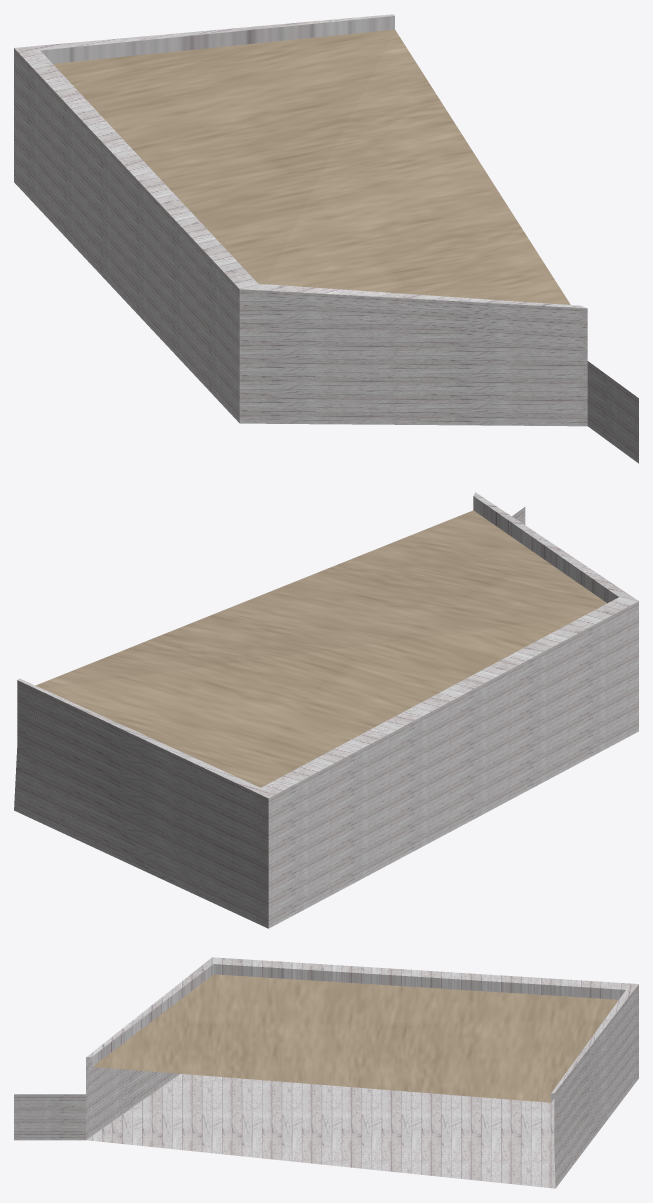
The model's file is SALA.glb.
3 views of the same model, one above another, from view 1: azimuth 30°, elevation 25°; view 2: azimuth 150°, elevation 25°; view 3: azimuth 270°, elevation 25° (orthographic). The views are drawn at different scales.
Parts seen in each view (by area): view 1: Cube.005; view 2: Cube.005; view 3: Cube.005.
Part boxes in pixels (<box>): Cube.005: <box>14,14,638,463</box>; Cube.005: <box>14,492,638,928</box>; Cube.005: <box>14,957,638,1188</box>.
Size of the model in its own units: 39.7 by 12.75 by 76.54.
Materials: 2 (2 with a texture image).
